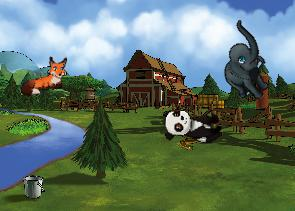elephant: (201, 19, 290, 107)
fox: (15, 53, 73, 98)
panda: (162, 108, 223, 143)
